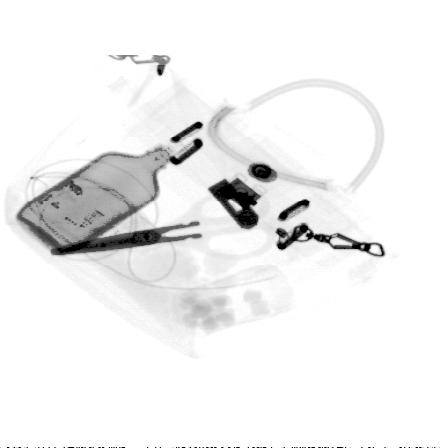Scissors: (51, 182, 277, 261)
